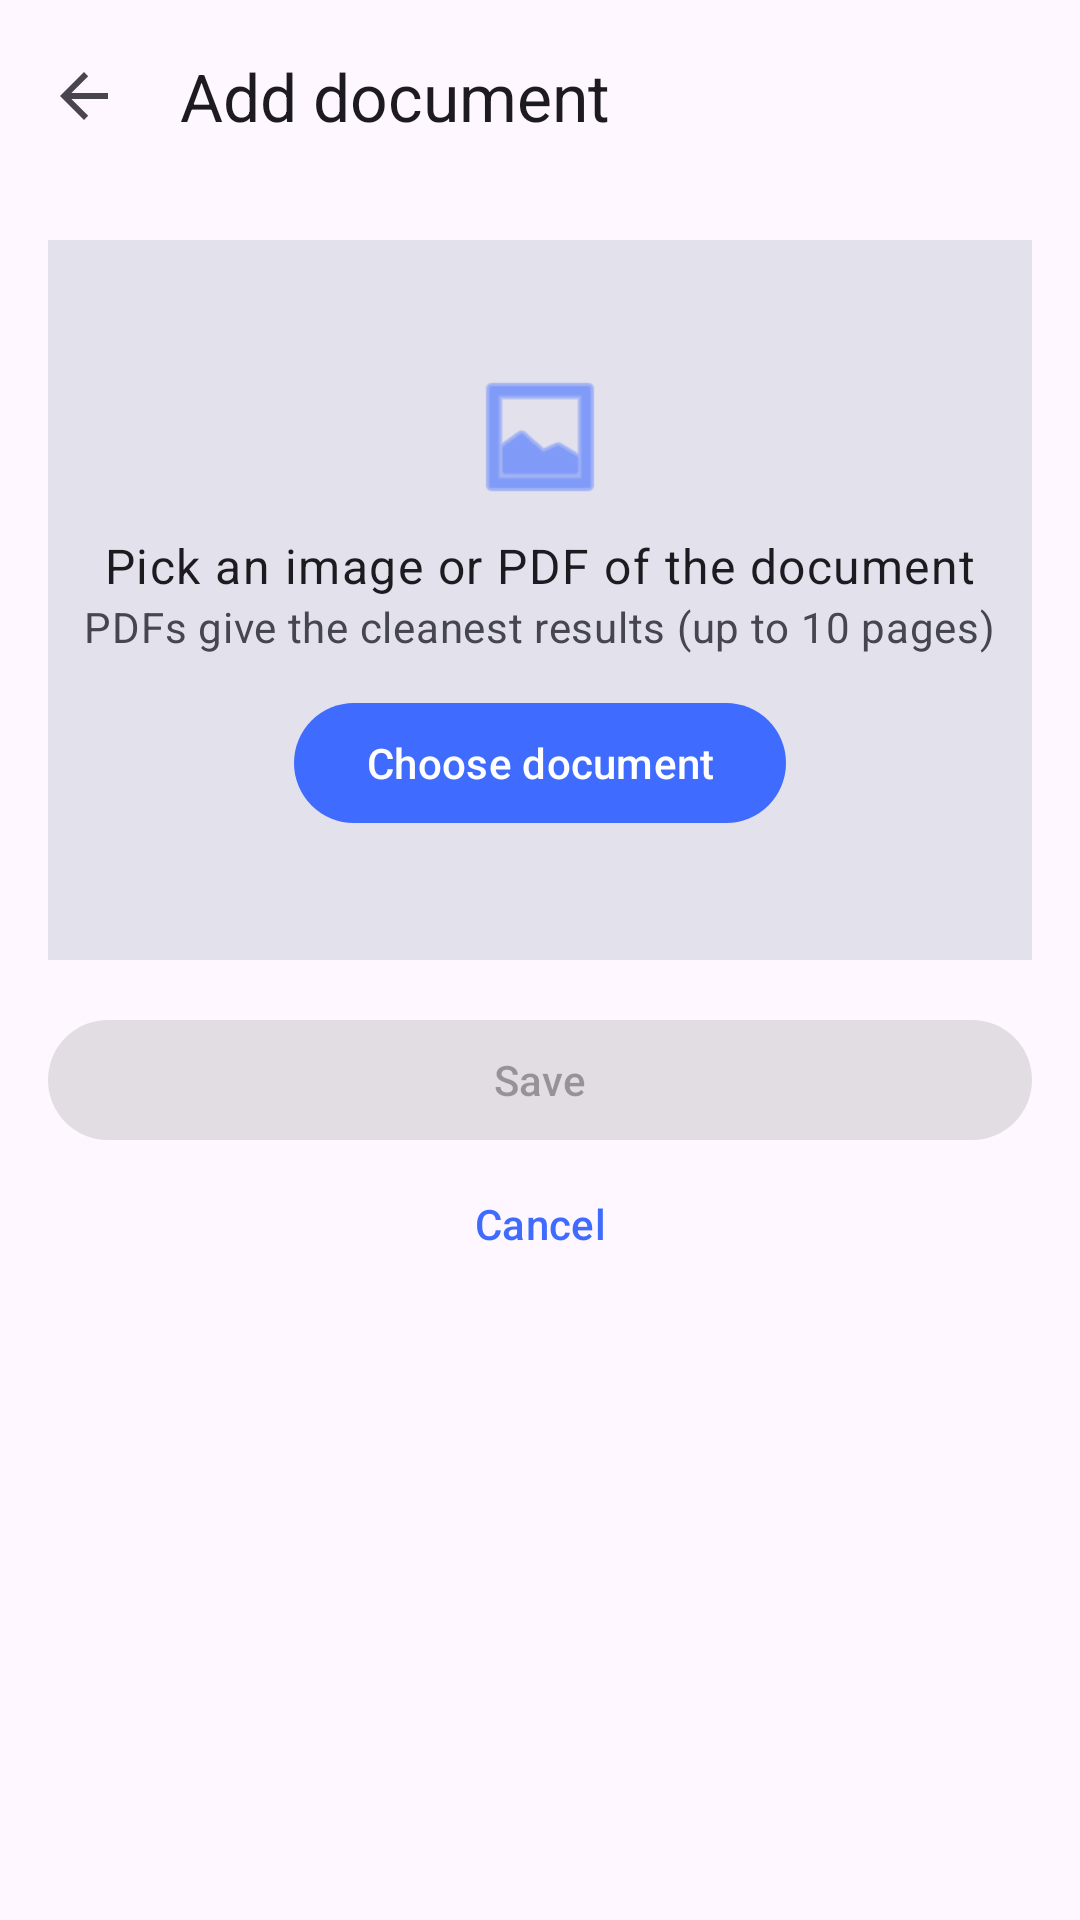

Screen size 1080px x 1920px. Icon name, then its box in pixels as (x1, y1, x2, y2):
gallery: (486, 383, 594, 491)
